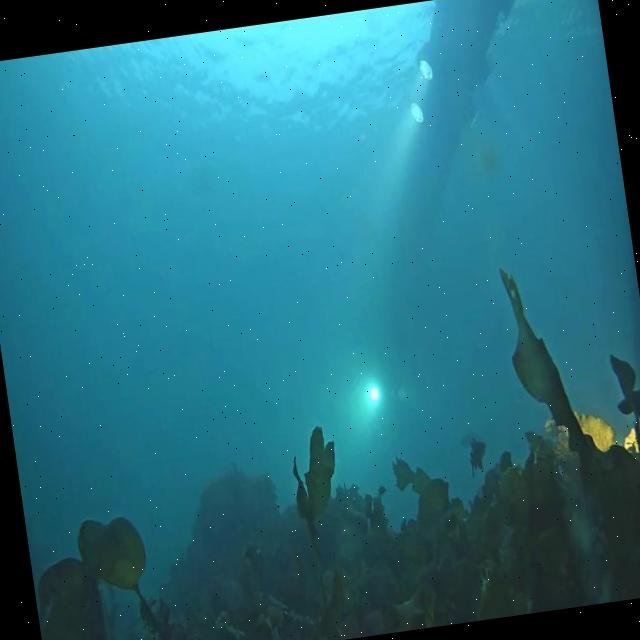fish: (467, 438, 490, 473)
